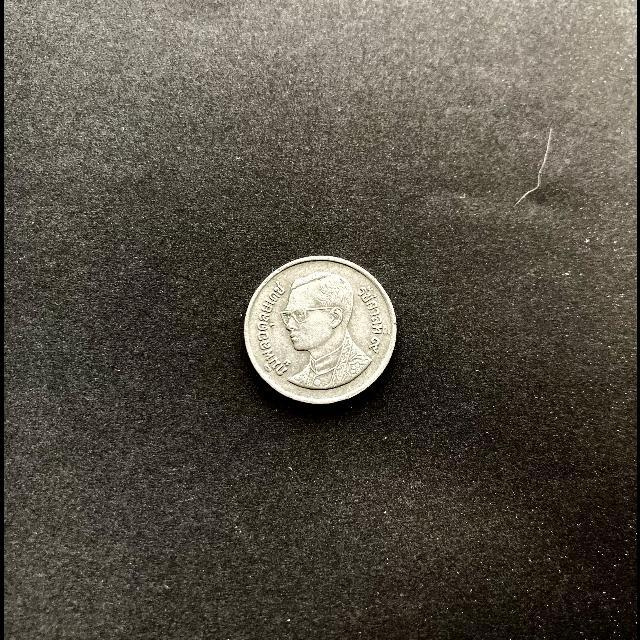1 Bath: (243, 253, 402, 410)
